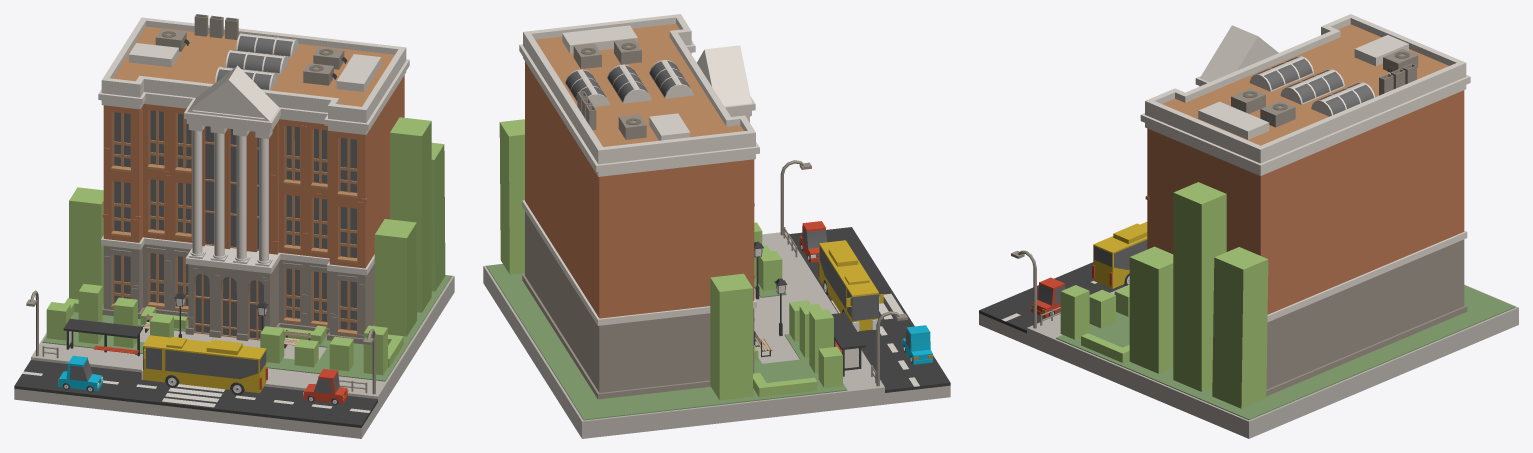
Rendered from school_02.glb.
The picture shows the model from 3 angles, left to right: view 1: azimuth 30°, elevation 25°; view 2: azimuth 150°, elevation 25°; view 3: azimuth 270°, elevation 25°; orthographic projection. The views are drawn at different scales.
Parts seen in each view (by area): view 1: school, bushes, ground, bus, bus stop, car blue, car red, street light; view 2: school, ground, bushes, bus, bus stop, car blue, street light, car red, sidewalk lights; view 3: school, bushes, ground, bus, car red.
Part boxes in pixels (<box>): school: <box>98,14,409,344</box>; bushes: <box>46,117,445,375</box>; ground: <box>14,275,454,438</box>; bus: <box>141,335,267,395</box>; bus stop: <box>63,318,142,356</box>; car blue: <box>58,349,145,392</box>; car red: <box>303,369,348,404</box>; street light: <box>26,290,375,394</box>; school: <box>519,14,759,399</box>; ground: <box>483,227,950,438</box>; bushes: <box>499,119,842,400</box>; bus: <box>818,240,878,331</box>; bus stop: <box>831,312,865,376</box>; car blue: <box>846,294,932,364</box>; street light: <box>780,160,907,386</box>; car red: <box>799,221,826,262</box>; sidewalk lights: <box>754,241,787,335</box>; school: <box>1140,14,1470,396</box>; bushes: <box>1060,182,1268,408</box>; ground: <box>979,262,1518,438</box>; bus: <box>1092,222,1147,288</box>; car red: <box>1031,277,1065,317</box>.
Size of the model in its own units: 1.41 by 0.8455 by 1.41.
